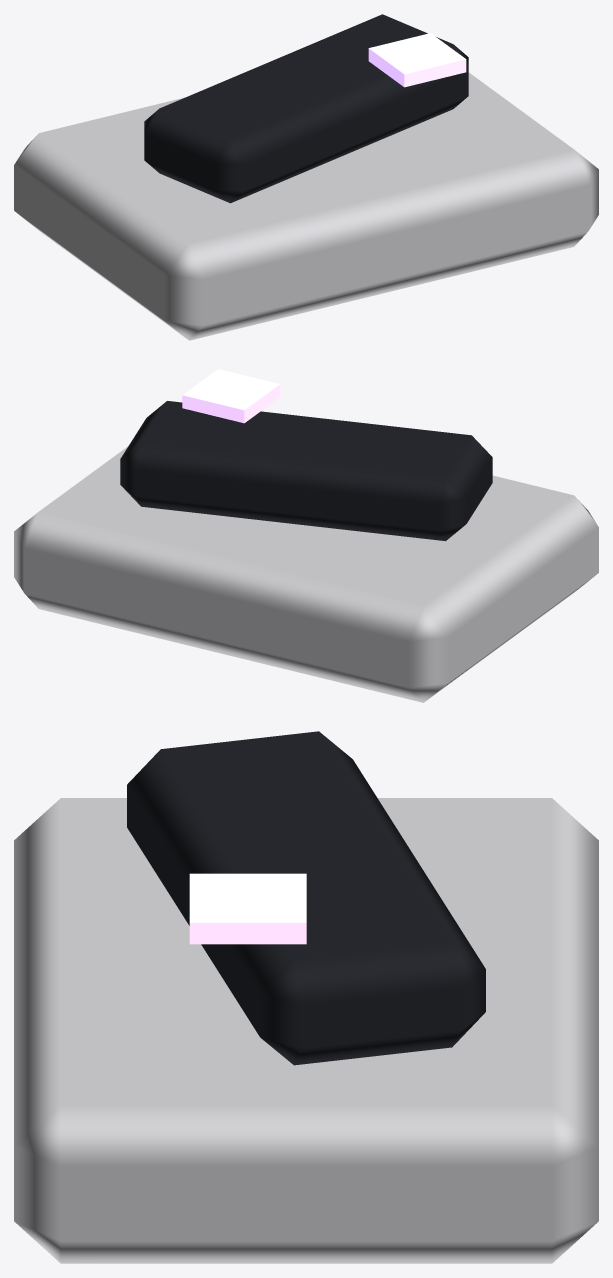
The model's file is station_processing_ausstattung_2_1.glb.
3 renders of one model, top to bottom at view 1: azimuth 30°, elevation 25°; view 2: azimuth 150°, elevation 25°; view 3: azimuth 270°, elevation 25°, orthographic. The views are drawn at different scales.
Visible parts, largest first — view 1: station_processing_ausstattung_2_1; view 2: station_processing_ausstattung_2_1; view 3: station_processing_ausstattung_2_1.
Boxes of the visible parts, box(x1,y1,x2,y2) form: station_processing_ausstattung_2_1: box(14, 14, 598, 340); station_processing_ausstattung_2_1: box(14, 369, 598, 702); station_processing_ausstattung_2_1: box(14, 731, 598, 1263).
Bounding box in the file's own units: 0.14 × 0.054 × 0.1.
